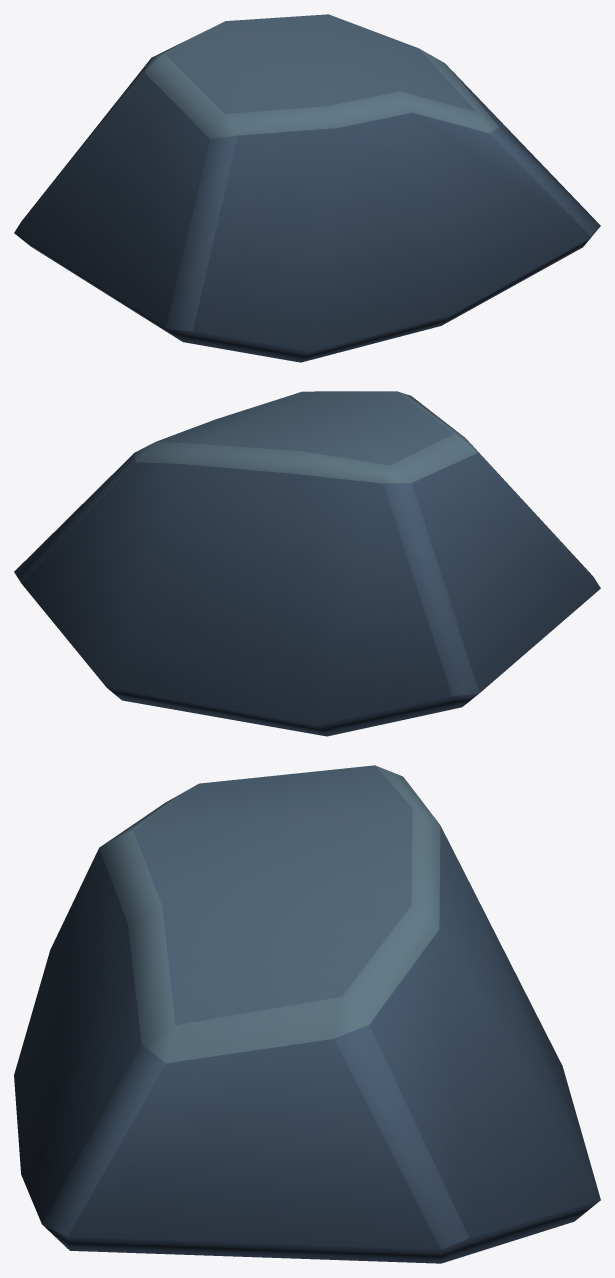
File: rock_016.fbx
3 renders of one model, top to bottom at view 1: azimuth 30°, elevation 25°; view 2: azimuth 150°, elevation 25°; view 3: azimuth 270°, elevation 25°, orthographic. The views are drawn at different scales.
Visible parts, largest first — view 1: rock_016; view 2: rock_016; view 3: rock_016.
Part boxes in pixels (x1,y1,x2,y2): rock_016: (14, 14, 600, 362); rock_016: (14, 391, 600, 736); rock_016: (14, 765, 600, 1263).
Bounding box in the file's own units: 197 × 93.95 × 151.
1 material, 1 textured.
